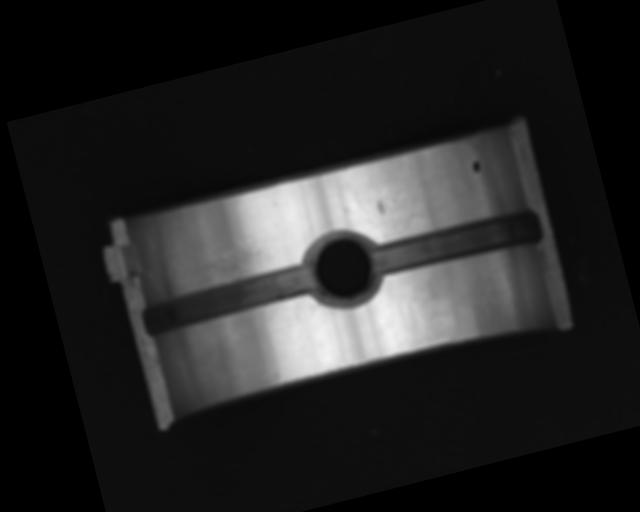blot: (470, 159, 482, 174)
bruise: (376, 199, 386, 216)
gap: (138, 259, 320, 338), (370, 205, 544, 279)
hole: (298, 222, 390, 317)
scratch: (162, 230, 278, 298)
